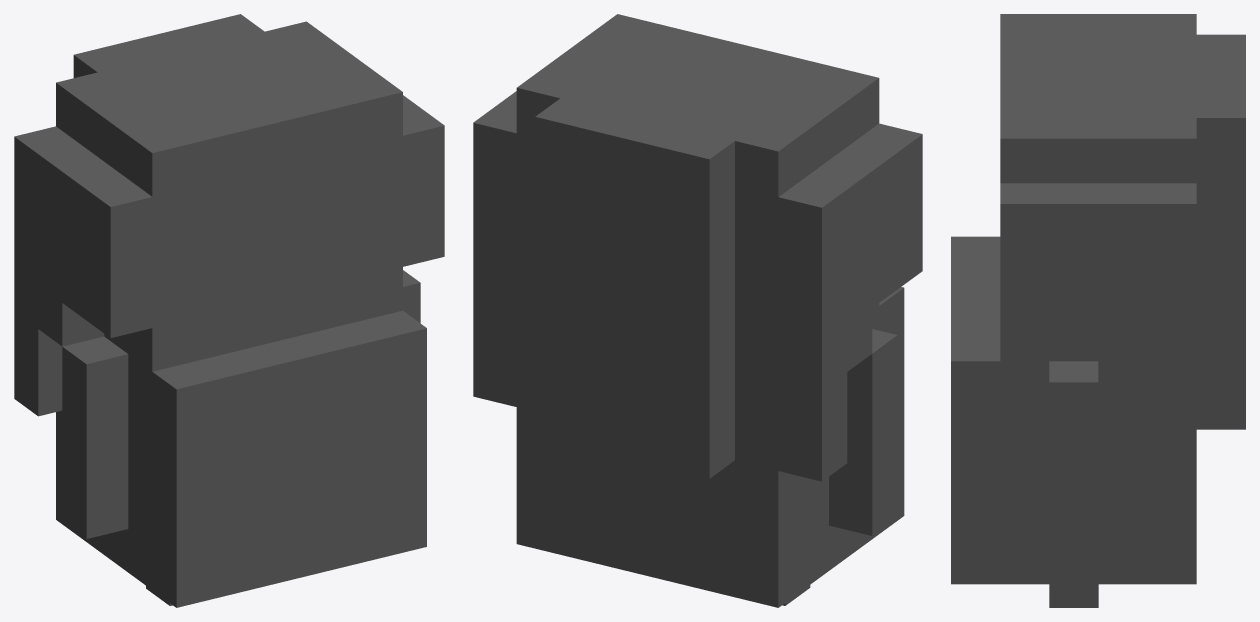
File: chr_nun.obj
3 renders of one model, left to right at view 1: azimuth 30°, elevation 25°; view 2: azimuth 150°, elevation 25°; view 3: azimuth 270°, elevation 25°, orthographic. The views are drawn at different scales.
Bounding box in the file's own units: 8 × 11 × 6.
